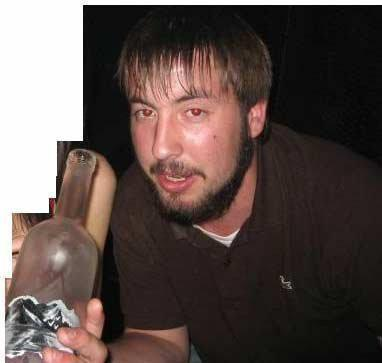Drunk: (131, 61, 237, 215)
